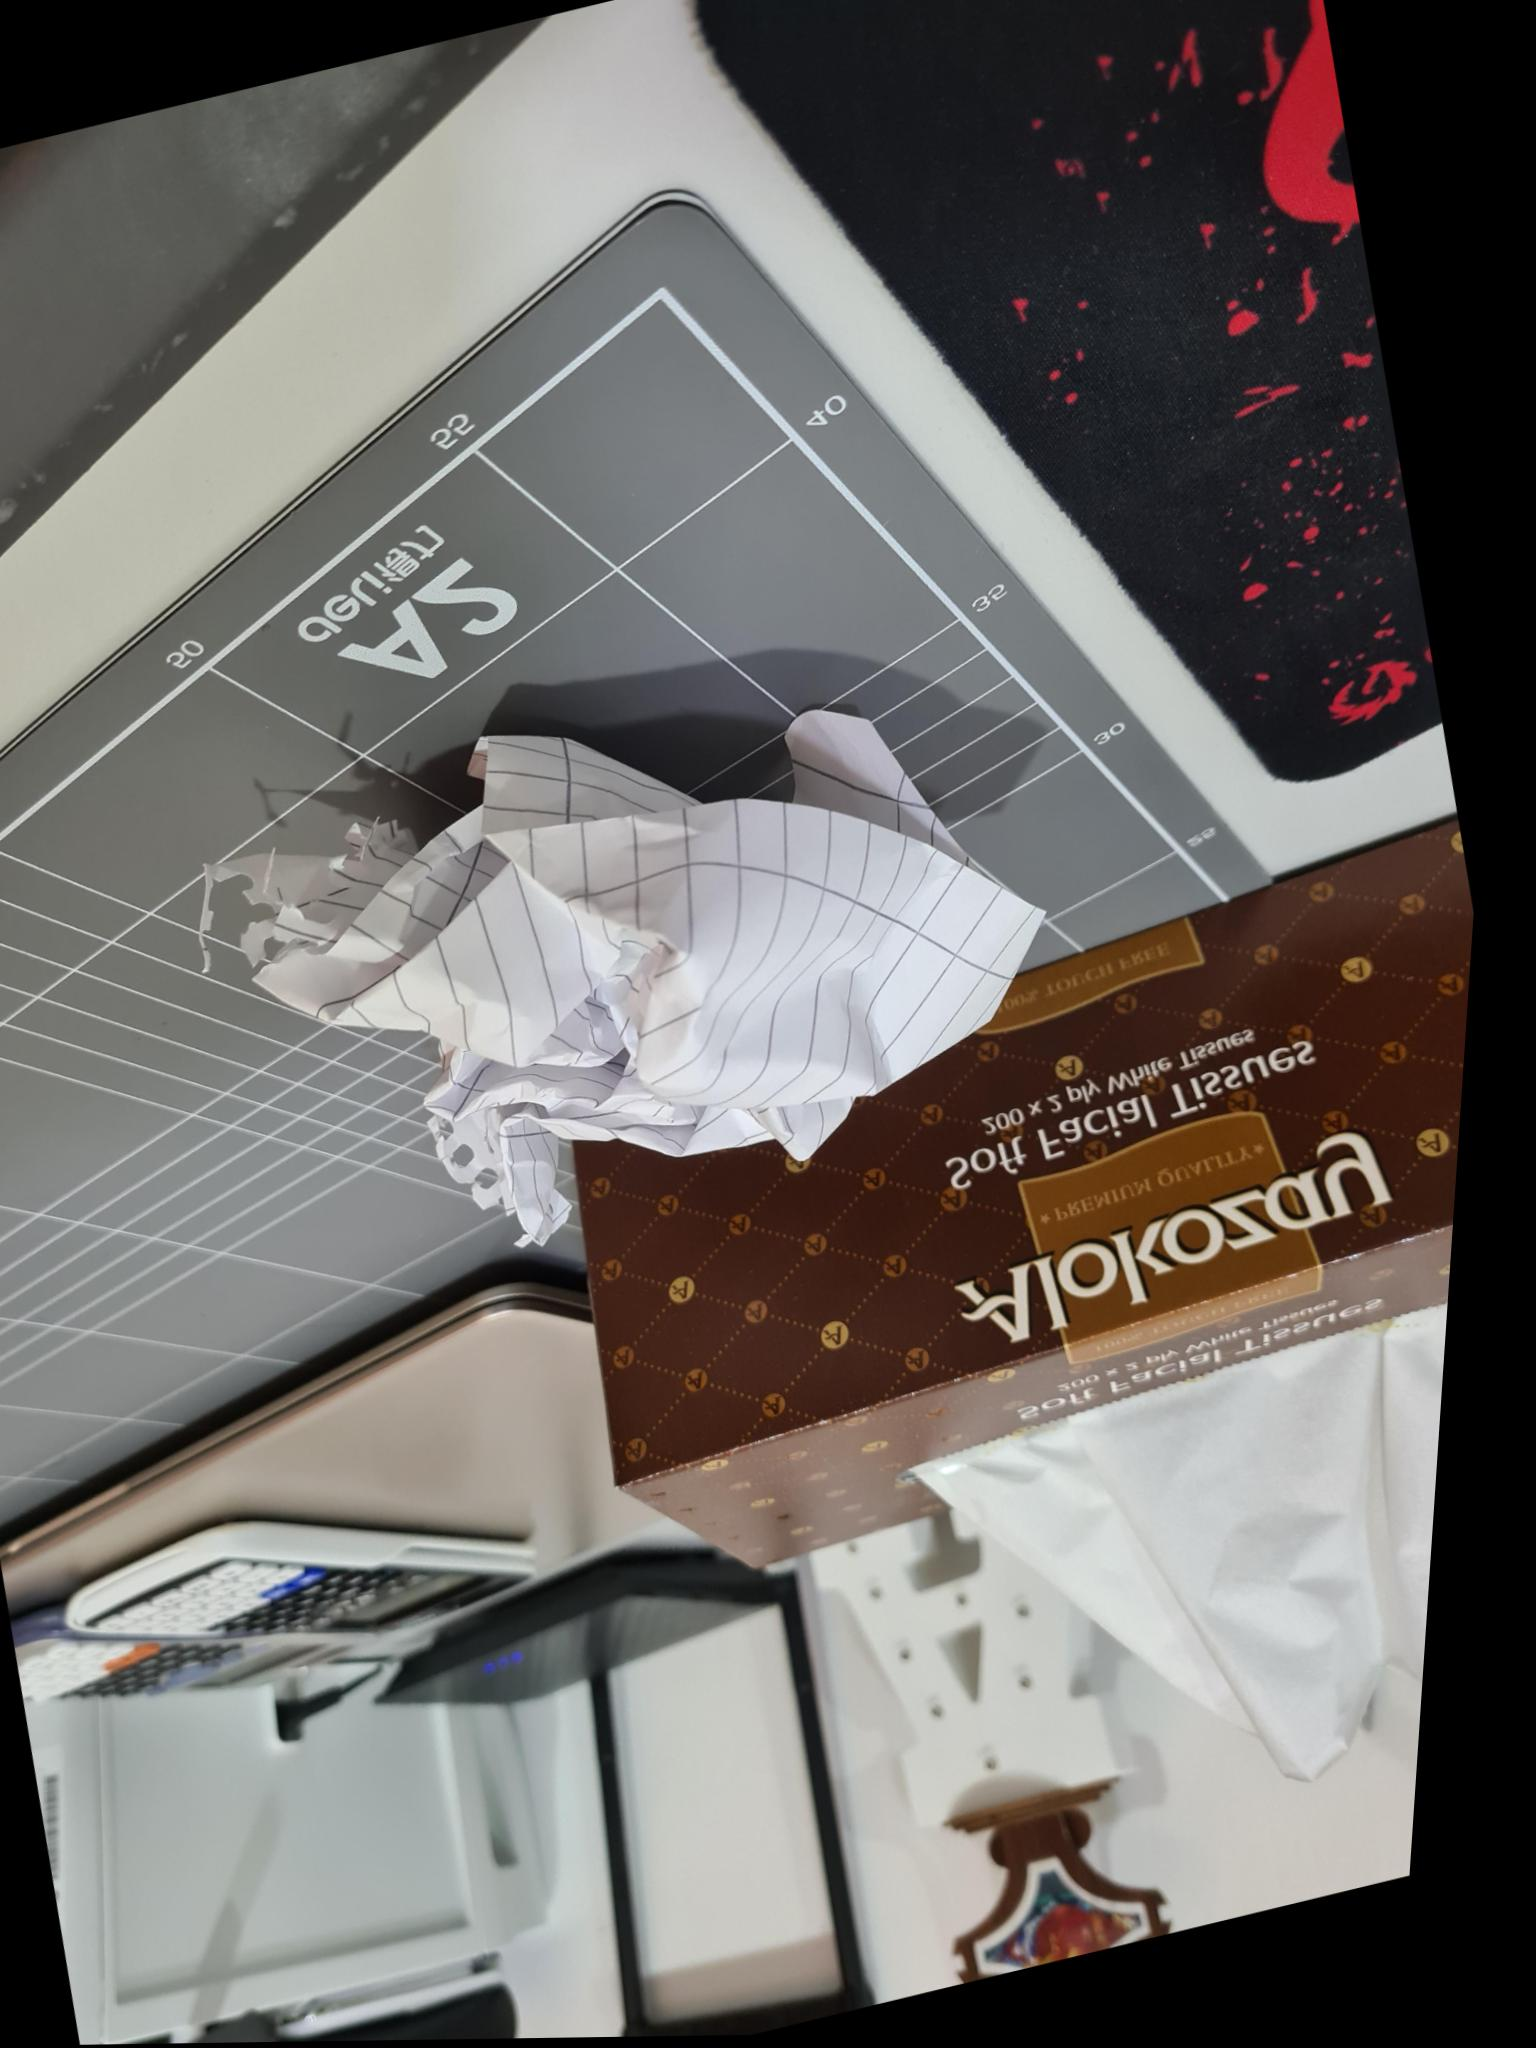paper: (242, 627, 1041, 1242)
